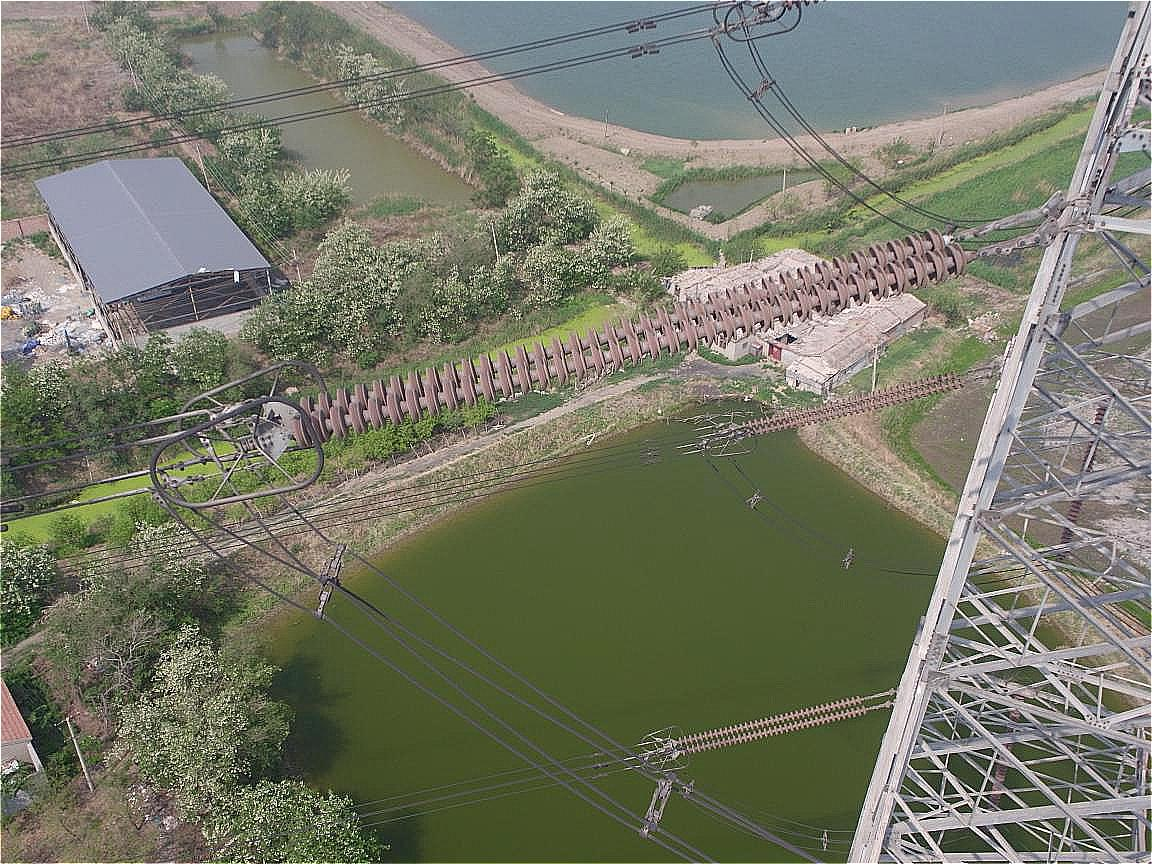insultor1: (749, 372, 968, 439), (680, 693, 869, 763)
insultor2: (292, 229, 969, 450)
